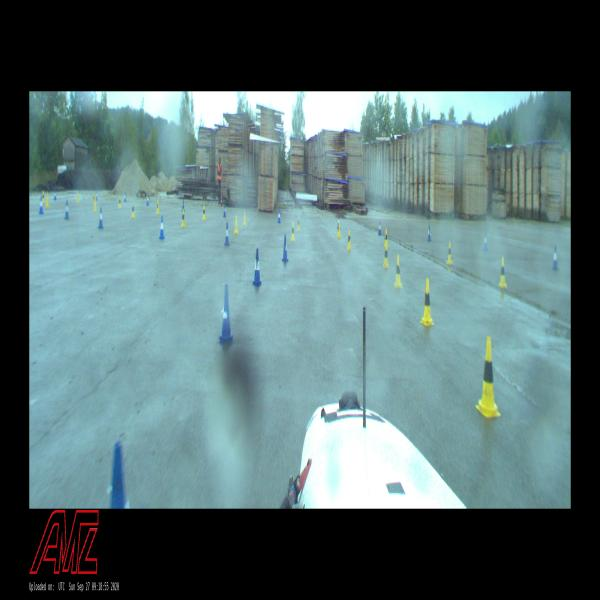blue_cone: (110, 442, 130, 509), (220, 285, 233, 346), (253, 249, 261, 286), (282, 235, 289, 262), (552, 246, 559, 270), (225, 222, 230, 246), (98, 208, 103, 228), (483, 232, 488, 251), (160, 216, 164, 239), (64, 201, 69, 219), (40, 197, 44, 214), (427, 225, 431, 241), (378, 221, 382, 236), (277, 210, 281, 223), (223, 206, 226, 217), (146, 194, 149, 205), (338, 216, 340, 228), (182, 199, 184, 211), (54, 190, 56, 200), (124, 192, 126, 202)
yellow_cone: (476, 337, 501, 418), (420, 278, 435, 325), (394, 255, 403, 288), (500, 257, 506, 286), (384, 241, 390, 268), (447, 241, 453, 264), (347, 230, 351, 250), (291, 222, 295, 241), (234, 215, 238, 234), (384, 229, 388, 246), (181, 209, 185, 226), (131, 202, 135, 218), (337, 221, 341, 237), (202, 205, 206, 219), (297, 216, 300, 231), (156, 200, 159, 214), (243, 210, 246, 224), (46, 196, 50, 206), (118, 195, 121, 207), (94, 197, 96, 211), (43, 191, 45, 203), (77, 192, 79, 202)
